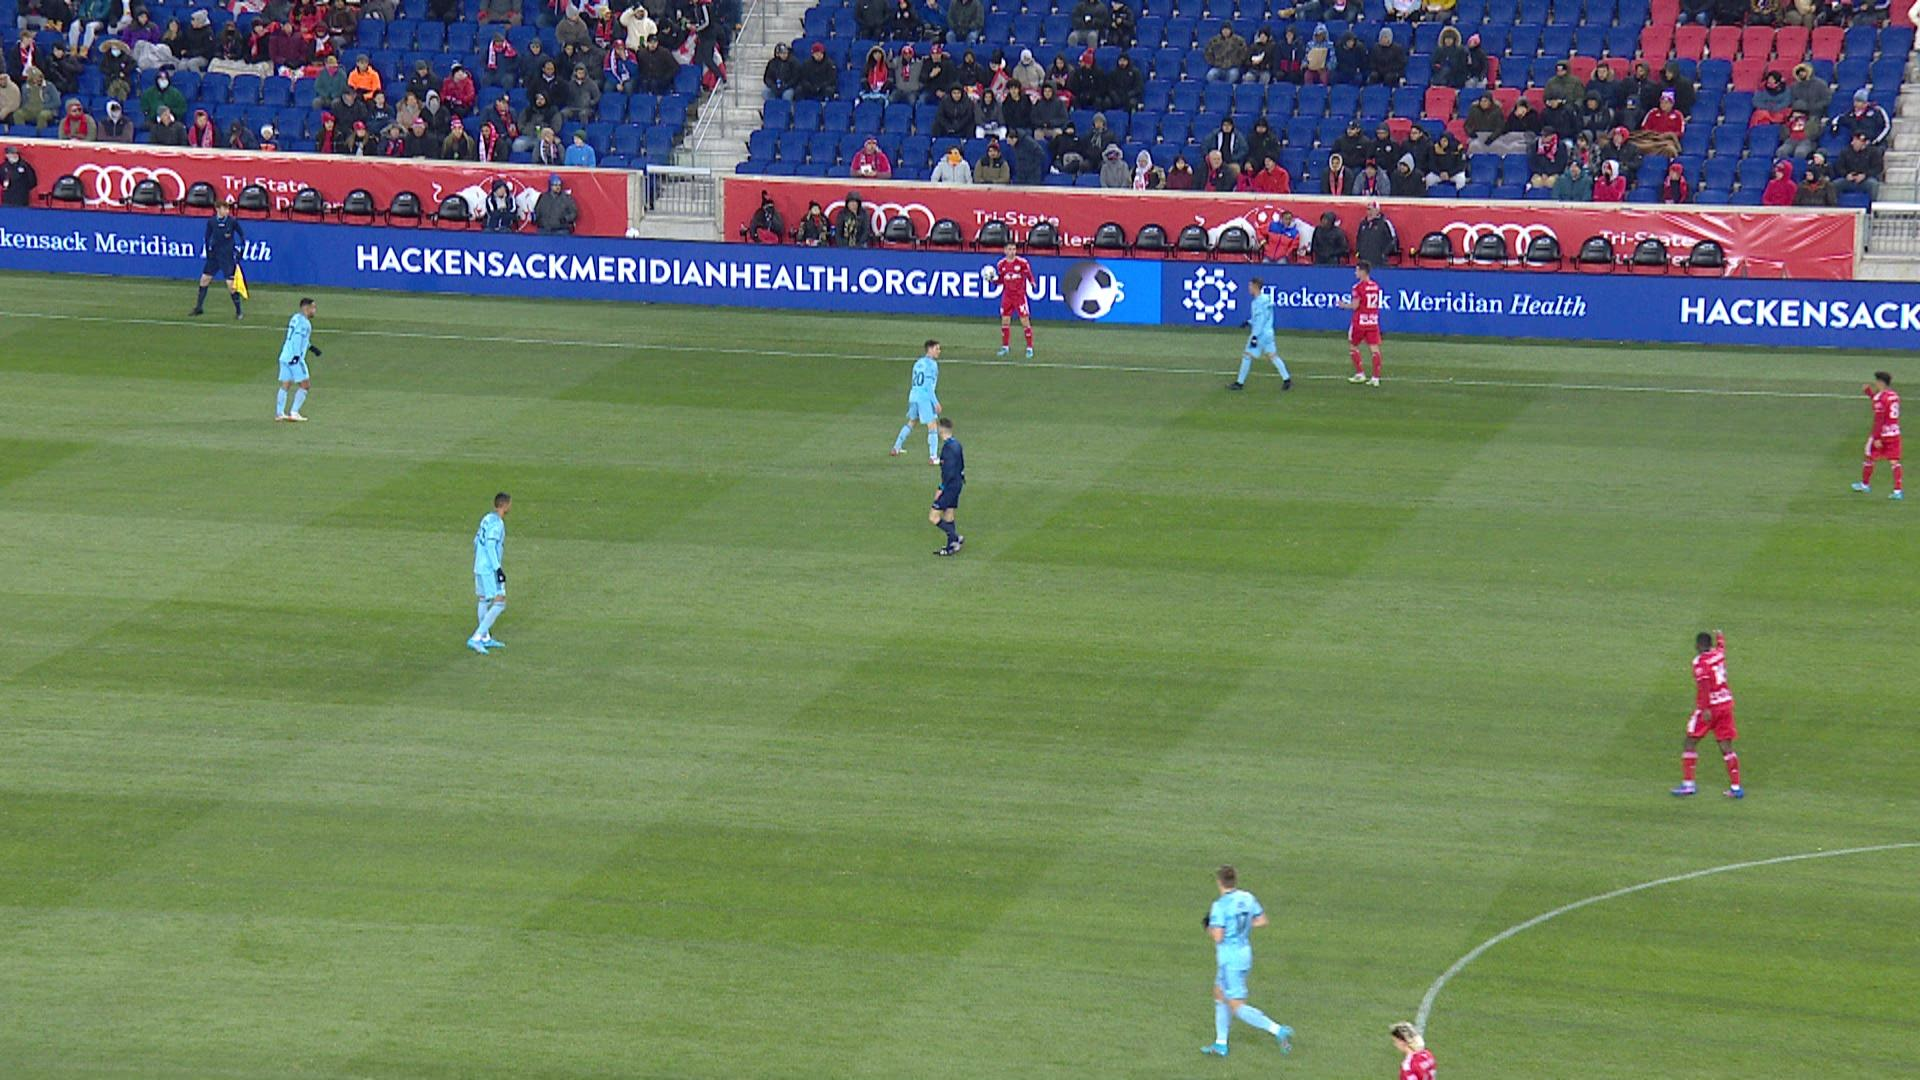football: (983, 267, 995, 280)
